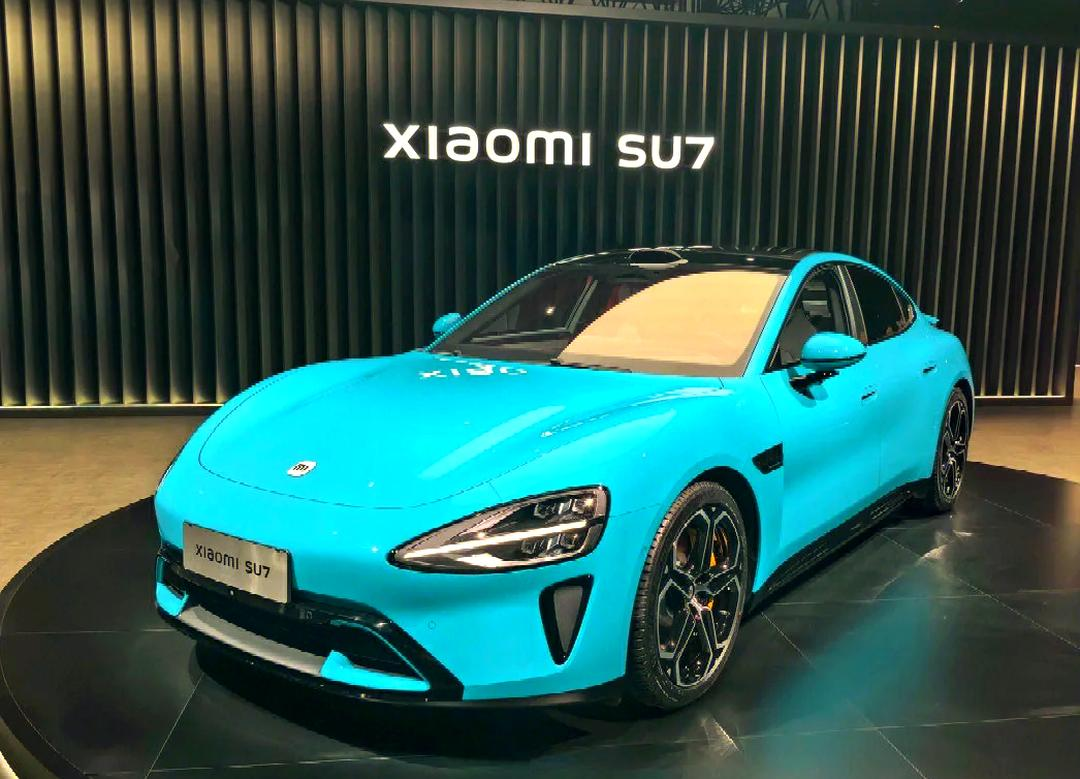su7: (155, 243, 984, 719)
